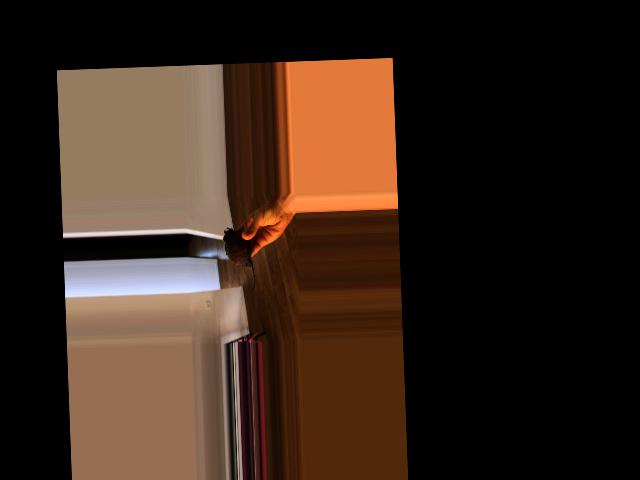beet: (223, 227, 255, 293)
